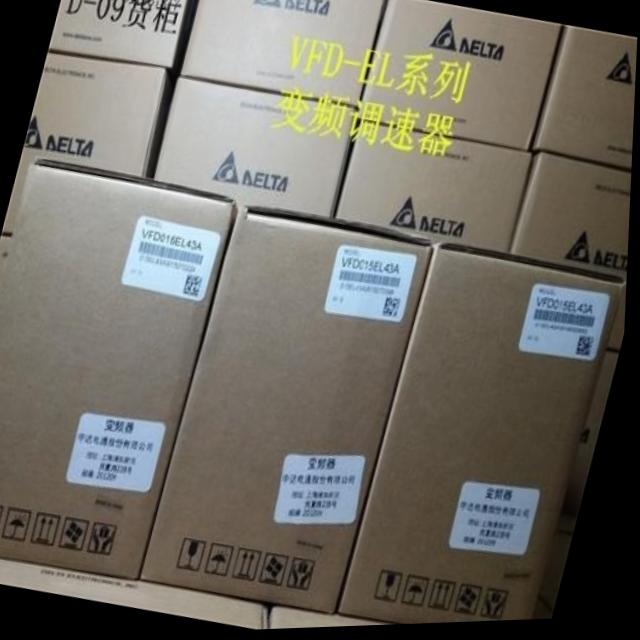box: (144, 207, 436, 618), (344, 245, 628, 628), (0, 157, 238, 579), (359, 0, 562, 152), (3, 51, 168, 234), (155, 79, 359, 220), (336, 119, 533, 259), (180, 0, 385, 108), (0, 553, 276, 632), (512, 155, 633, 288), (533, 31, 638, 175), (48, 0, 187, 69)
